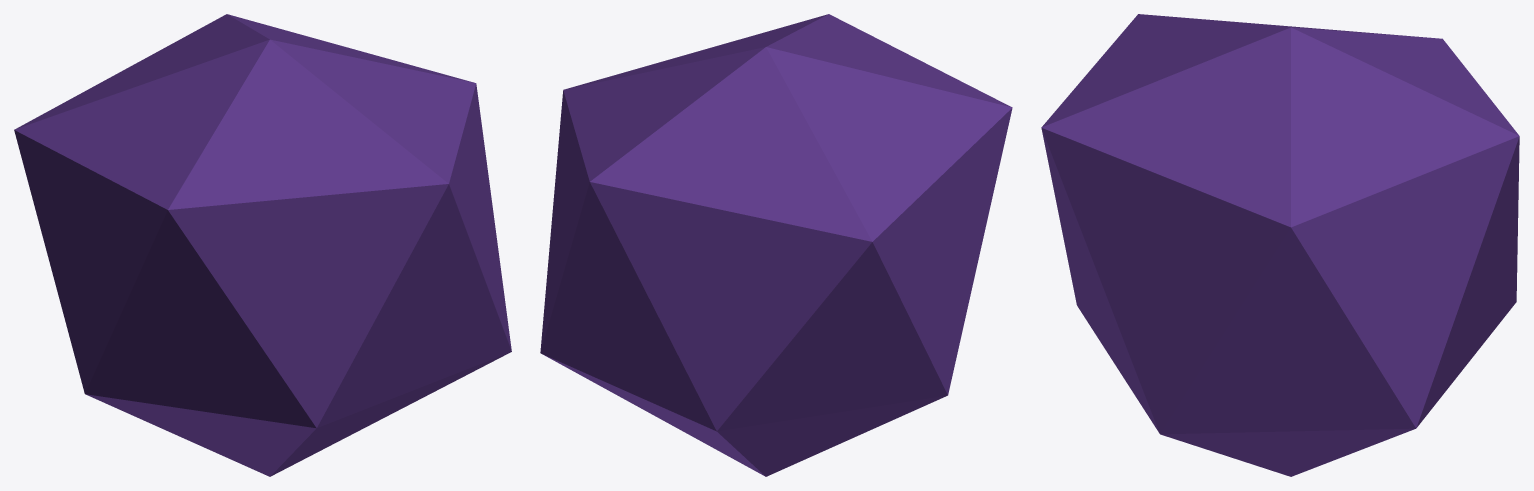
File: rock_2.glb
The picture shows the model from 3 angles, left to right: view 1: azimuth 30°, elevation 25°; view 2: azimuth 150°, elevation 25°; view 3: azimuth 270°, elevation 25°; orthographic projection. The views are drawn at different scales.
Parts seen in each view (by area): view 1: rock_2; view 2: rock_2; view 3: rock_2.
Boxes of the visible parts, x1=… form: rock_2: x1=14, y1=14, x2=511, y2=476; rock_2: x1=540, y1=14, x2=1012, y2=476; rock_2: x1=1041, y1=14, x2=1519, y2=476.
Bounding box in the file's own units: 0.8616 × 0.92 × 0.8872.
